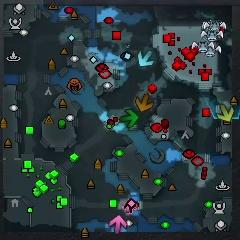x1: (109, 216, 128, 233)
x1Clone: (125, 199, 136, 214)
x2: (215, 105, 235, 122)
x3: (137, 49, 155, 68)
x4: (120, 110, 136, 128)
x5: (135, 93, 154, 113)
